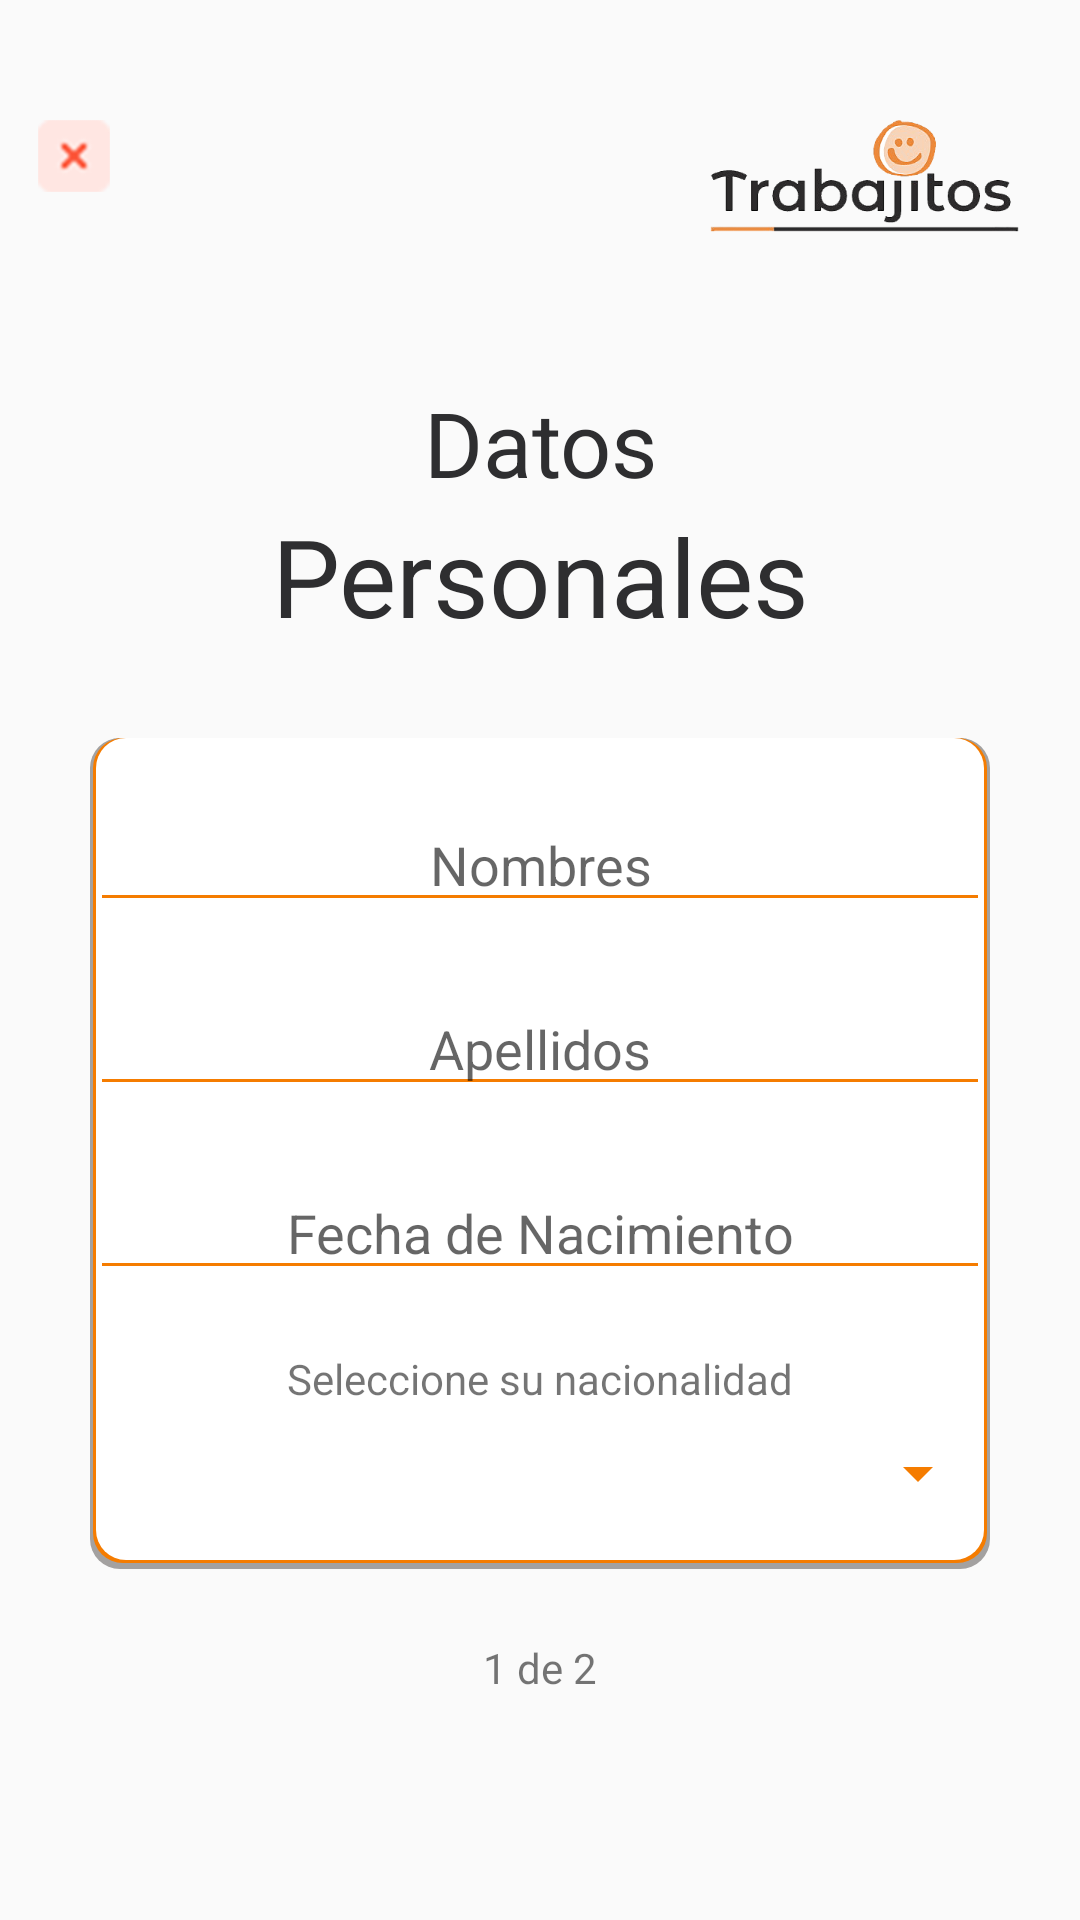

Point at icon controls on the screen. Image size 1080 x 1920, points as [x,y].
close: [74,156]
